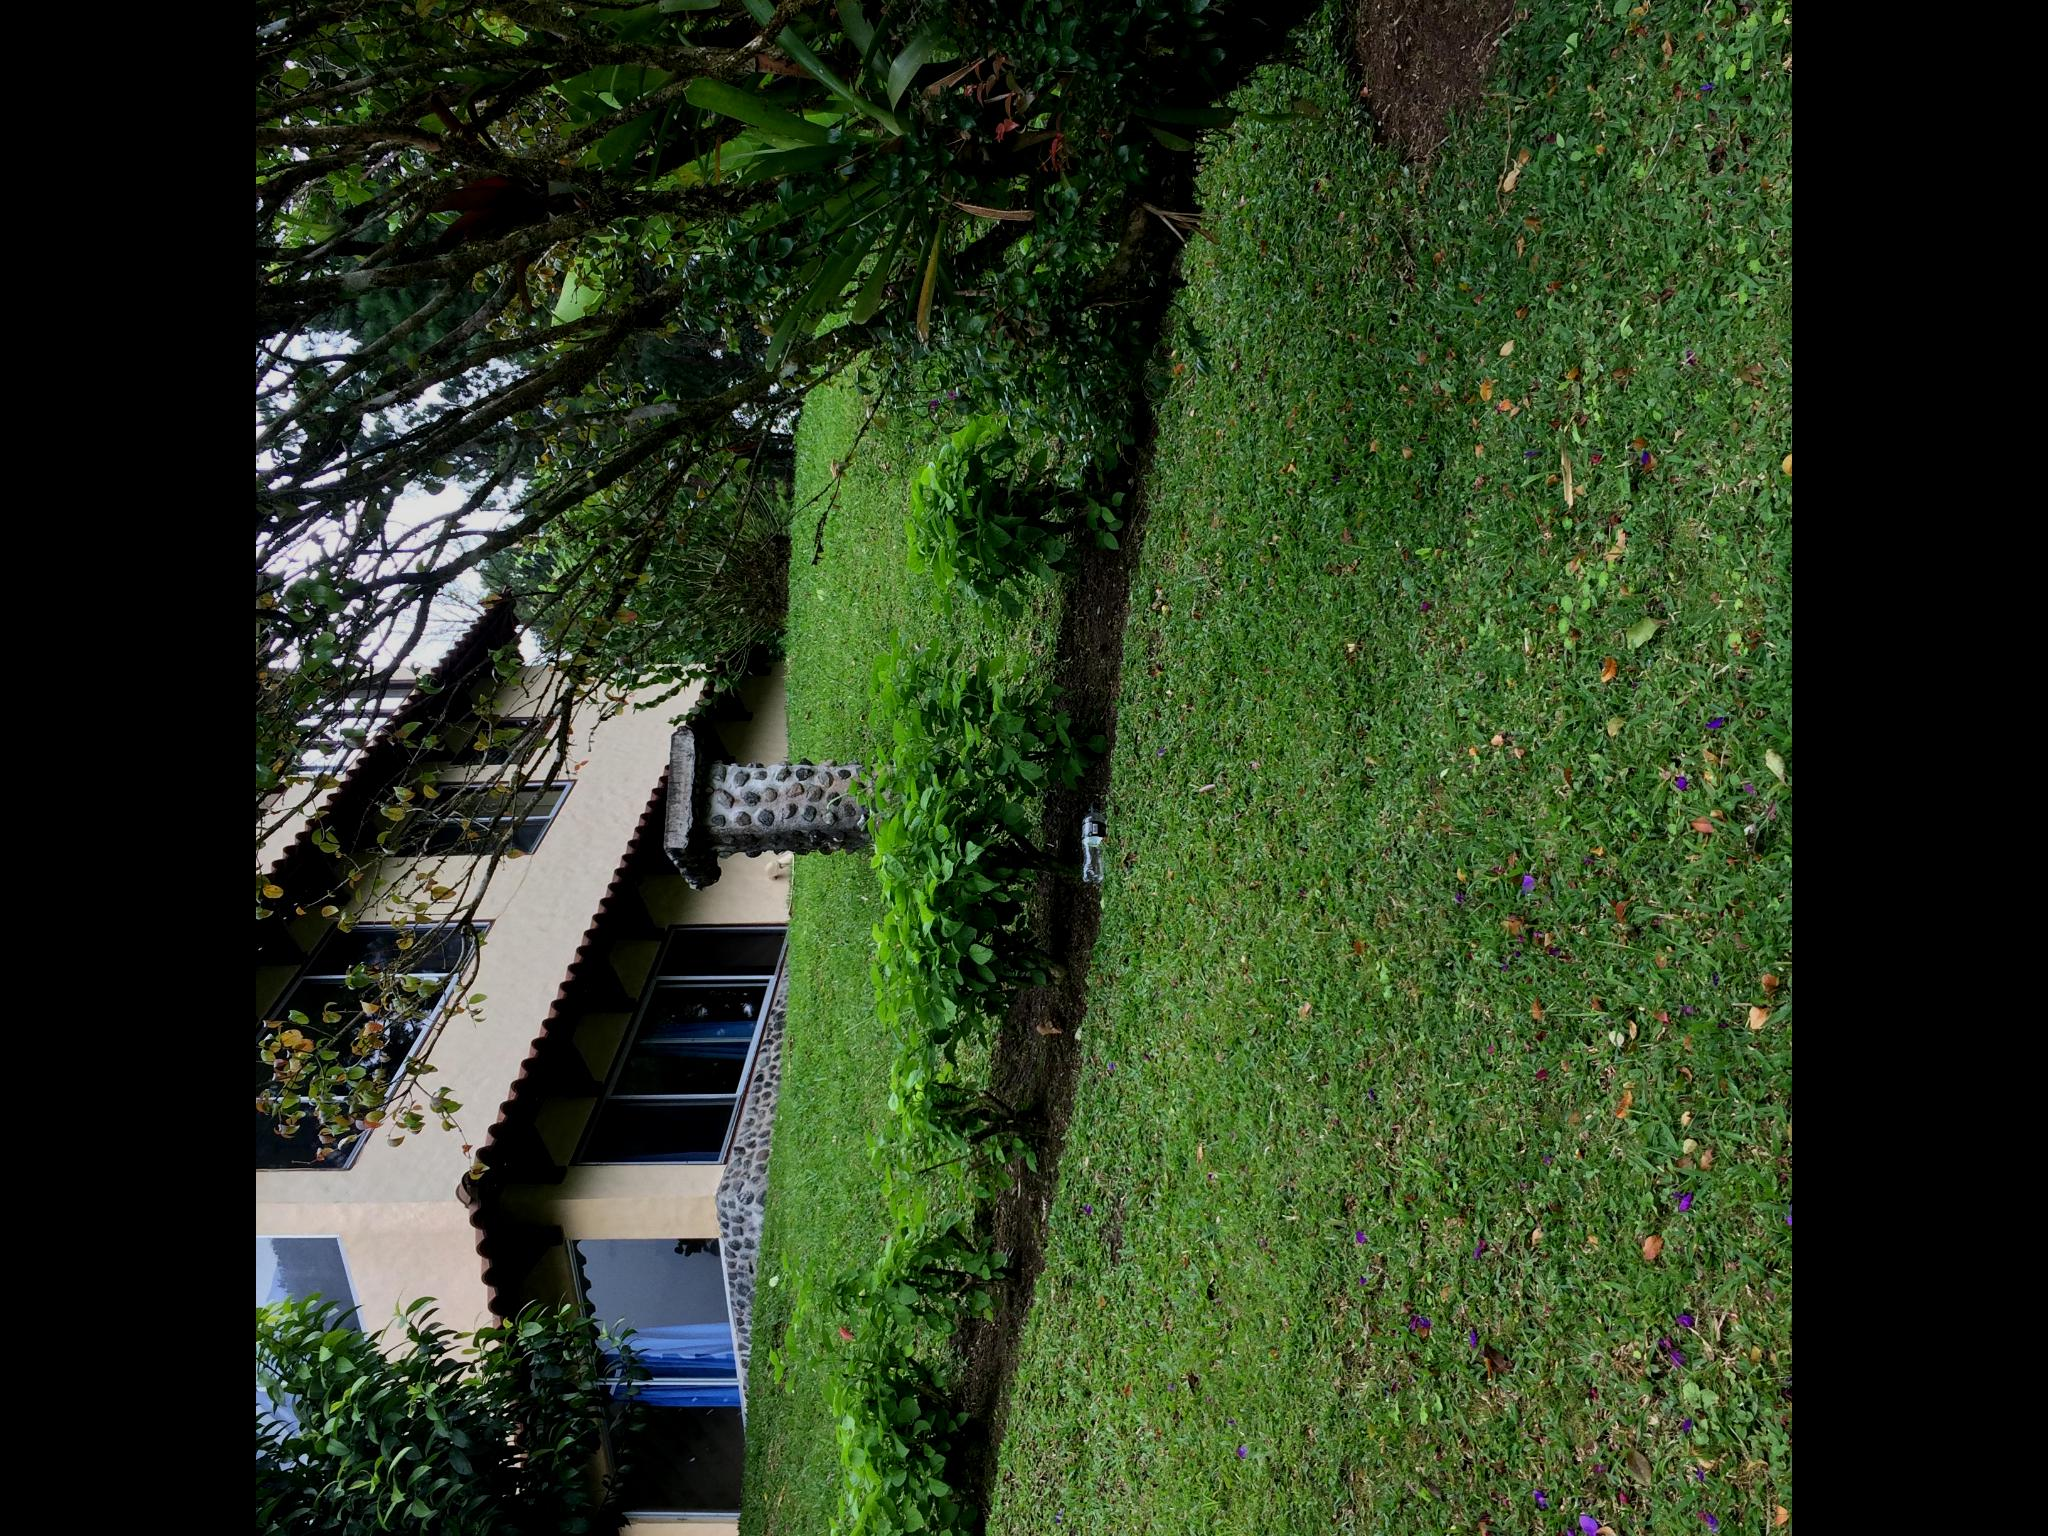bottle: (1077, 797, 1111, 887)
